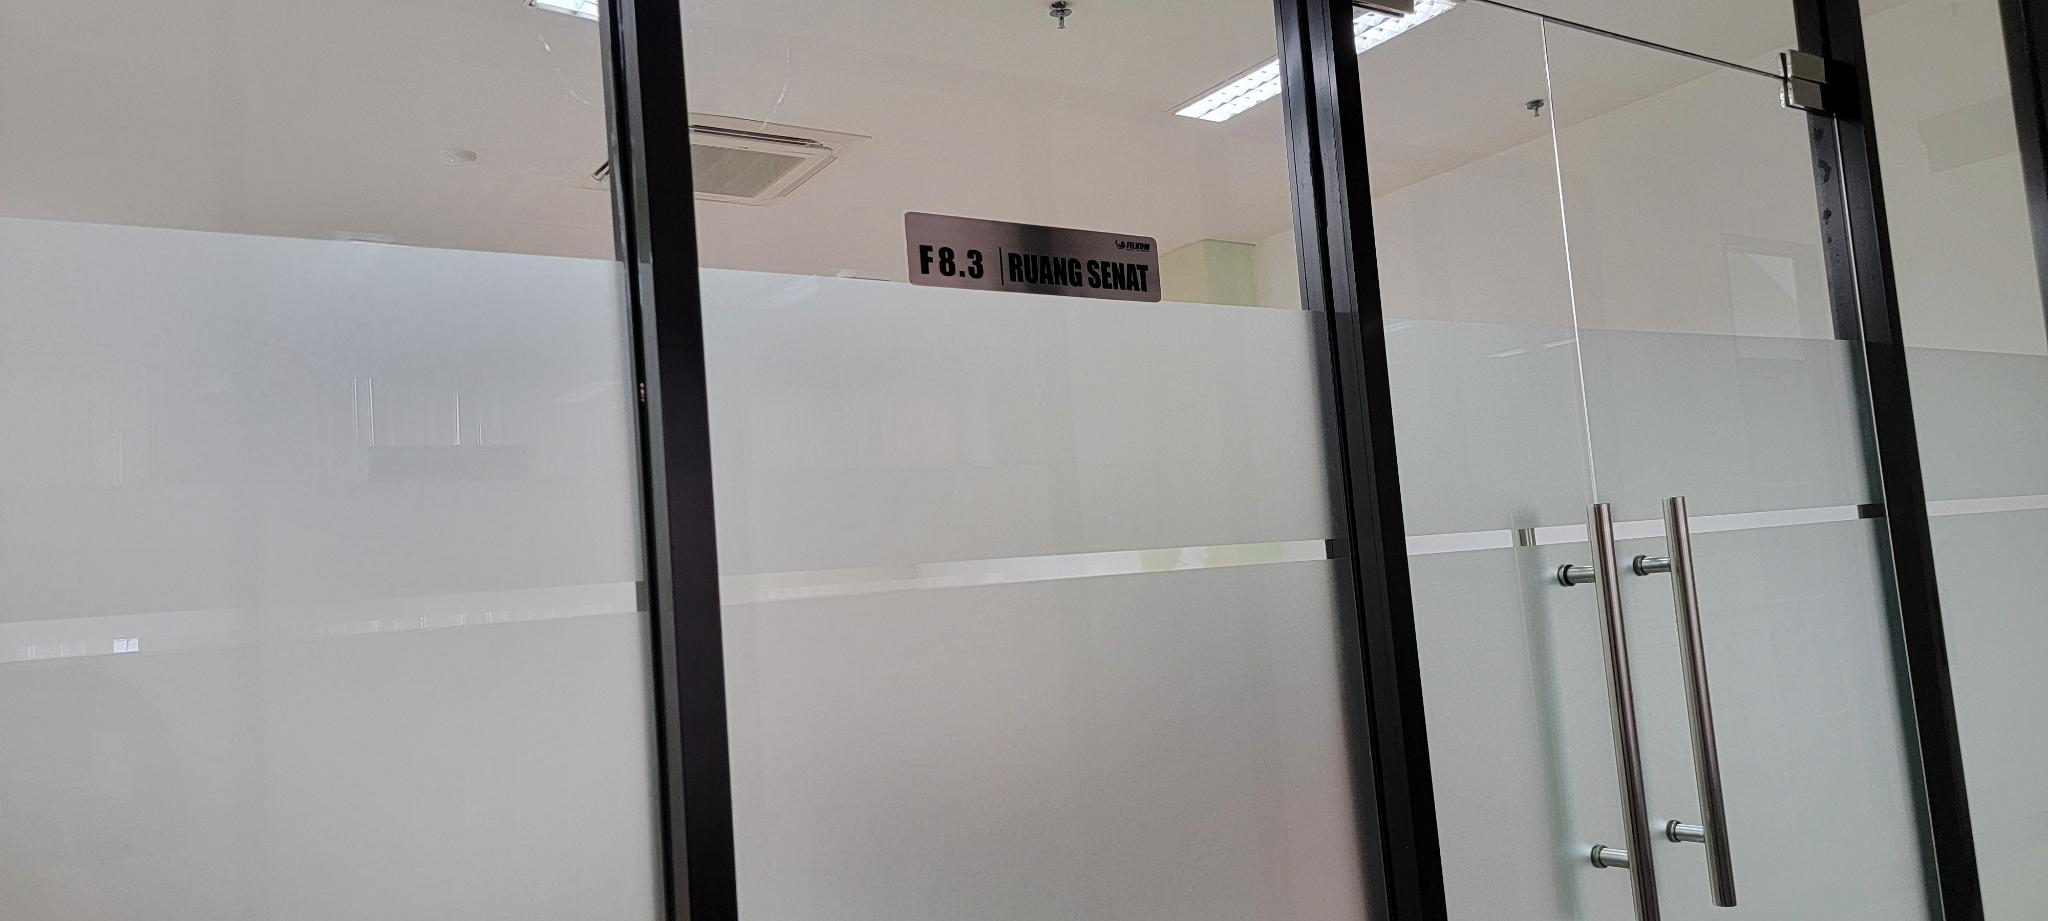plate: (905, 210, 1162, 304)
